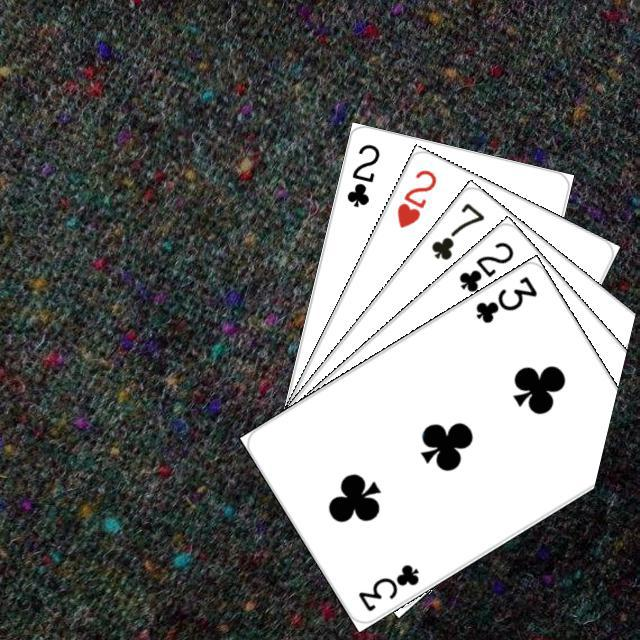2c: (453, 236, 516, 294), (341, 139, 382, 209)
2h: (392, 164, 439, 230)
3c: (353, 559, 421, 614), (470, 271, 539, 325)
7c: (426, 197, 486, 262)
